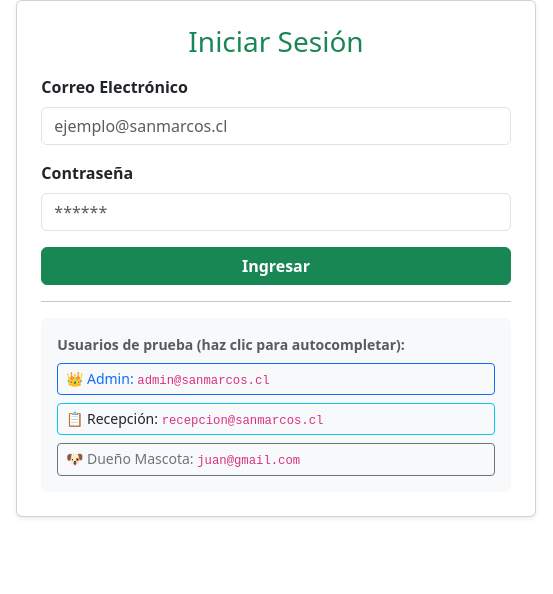
Suite de 10 Pruebas Unitarias - Veterinaria San Marcos › 6. Debe mostrar mensaje de error en Login con credenciales inválidas
Type "falso@sanmarcos.cl" into the field with placeholder "ejemplo@sanmarcos.cl" at (276, 126), box [41,107,511,145]
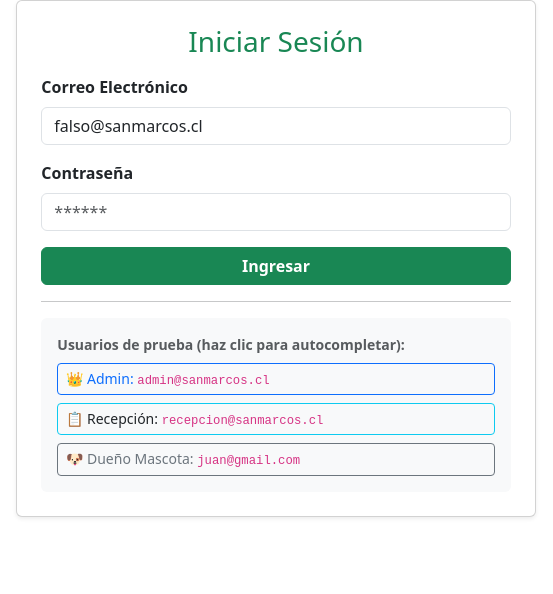
Type "claveincorrecta" into the password field with placeholder "******" at (276, 212), box [41,193,511,231]
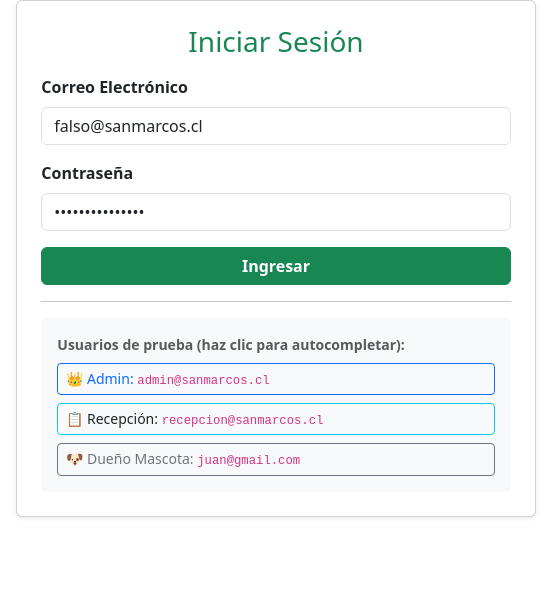
// Hacemos clic en el botón de ingreso
Click the button "Ingresar" at (276, 266), box [41,247,511,285]
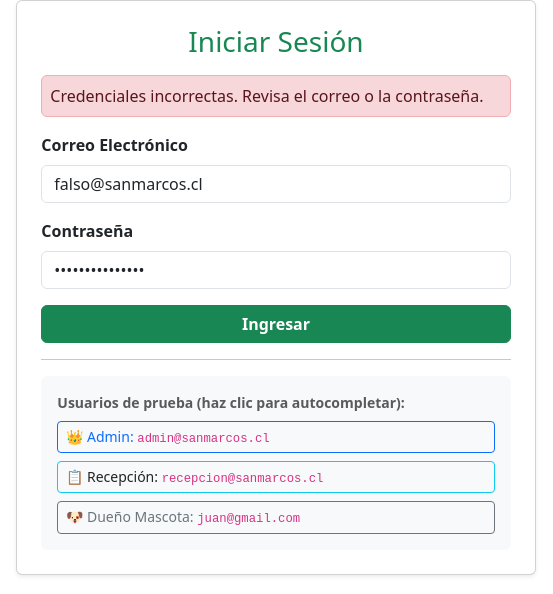
expect the text "Credenciales incorrectas. Revisa el correo o la contraseña." is shown: met, box [41,75,511,117]
